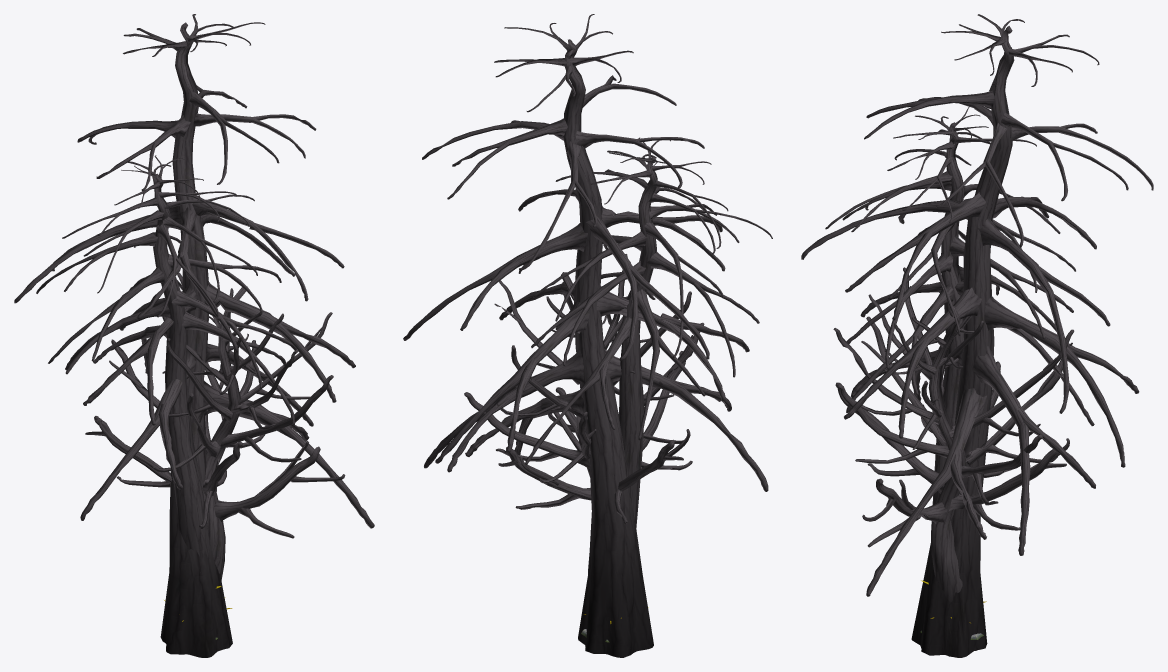
The model's file is nature2.glb.
3 views of the same model, side by side, from view 1: azimuth 30°, elevation 25°; view 2: azimuth 150°, elevation 25°; view 3: azimuth 270°, elevation 25° (orthographic). The views are drawn at different scales.
Parts seen in each view (by area): view 1: DeadTree_5, DeadTree_3, DeadTree_1; view 2: DeadTree_5, DeadTree_3, DeadTree_1; view 3: DeadTree_5, DeadTree_1, DeadTree_3.
Boxes of the visible parts, <box> form: DeadTree_5: <box>14,14,374,657</box>; DeadTree_3: <box>36,155,297,559</box>; DeadTree_1: <box>85,272,345,580</box>; DeadTree_5: <box>403,14,768,657</box>; DeadTree_3: <box>518,137,772,646</box>; DeadTree_1: <box>464,254,704,573</box>; DeadTree_5: <box>801,14,1153,657</box>; DeadTree_1: <box>833,267,1074,602</box>; DeadTree_3: <box>825,106,1094,656</box>.
Bounding box in the file's own units: 8.36 × 16.44 × 8.41.
Materials: 3 (3 with a texture image).
